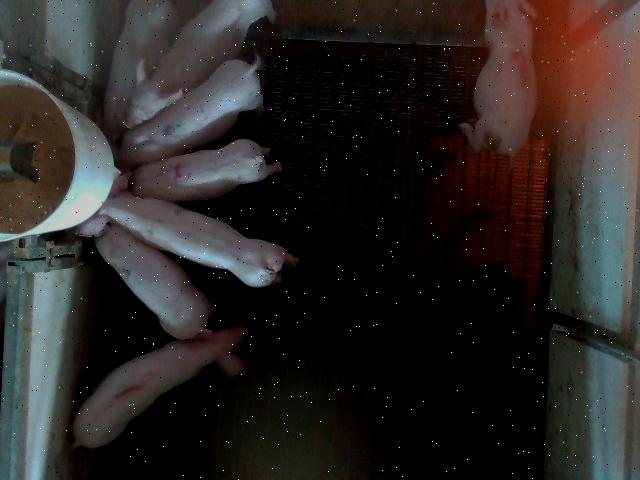pig-1: (72, 326, 246, 448)
pig-3: (460, 2, 536, 165)
pig-4: (129, 139, 282, 202)
